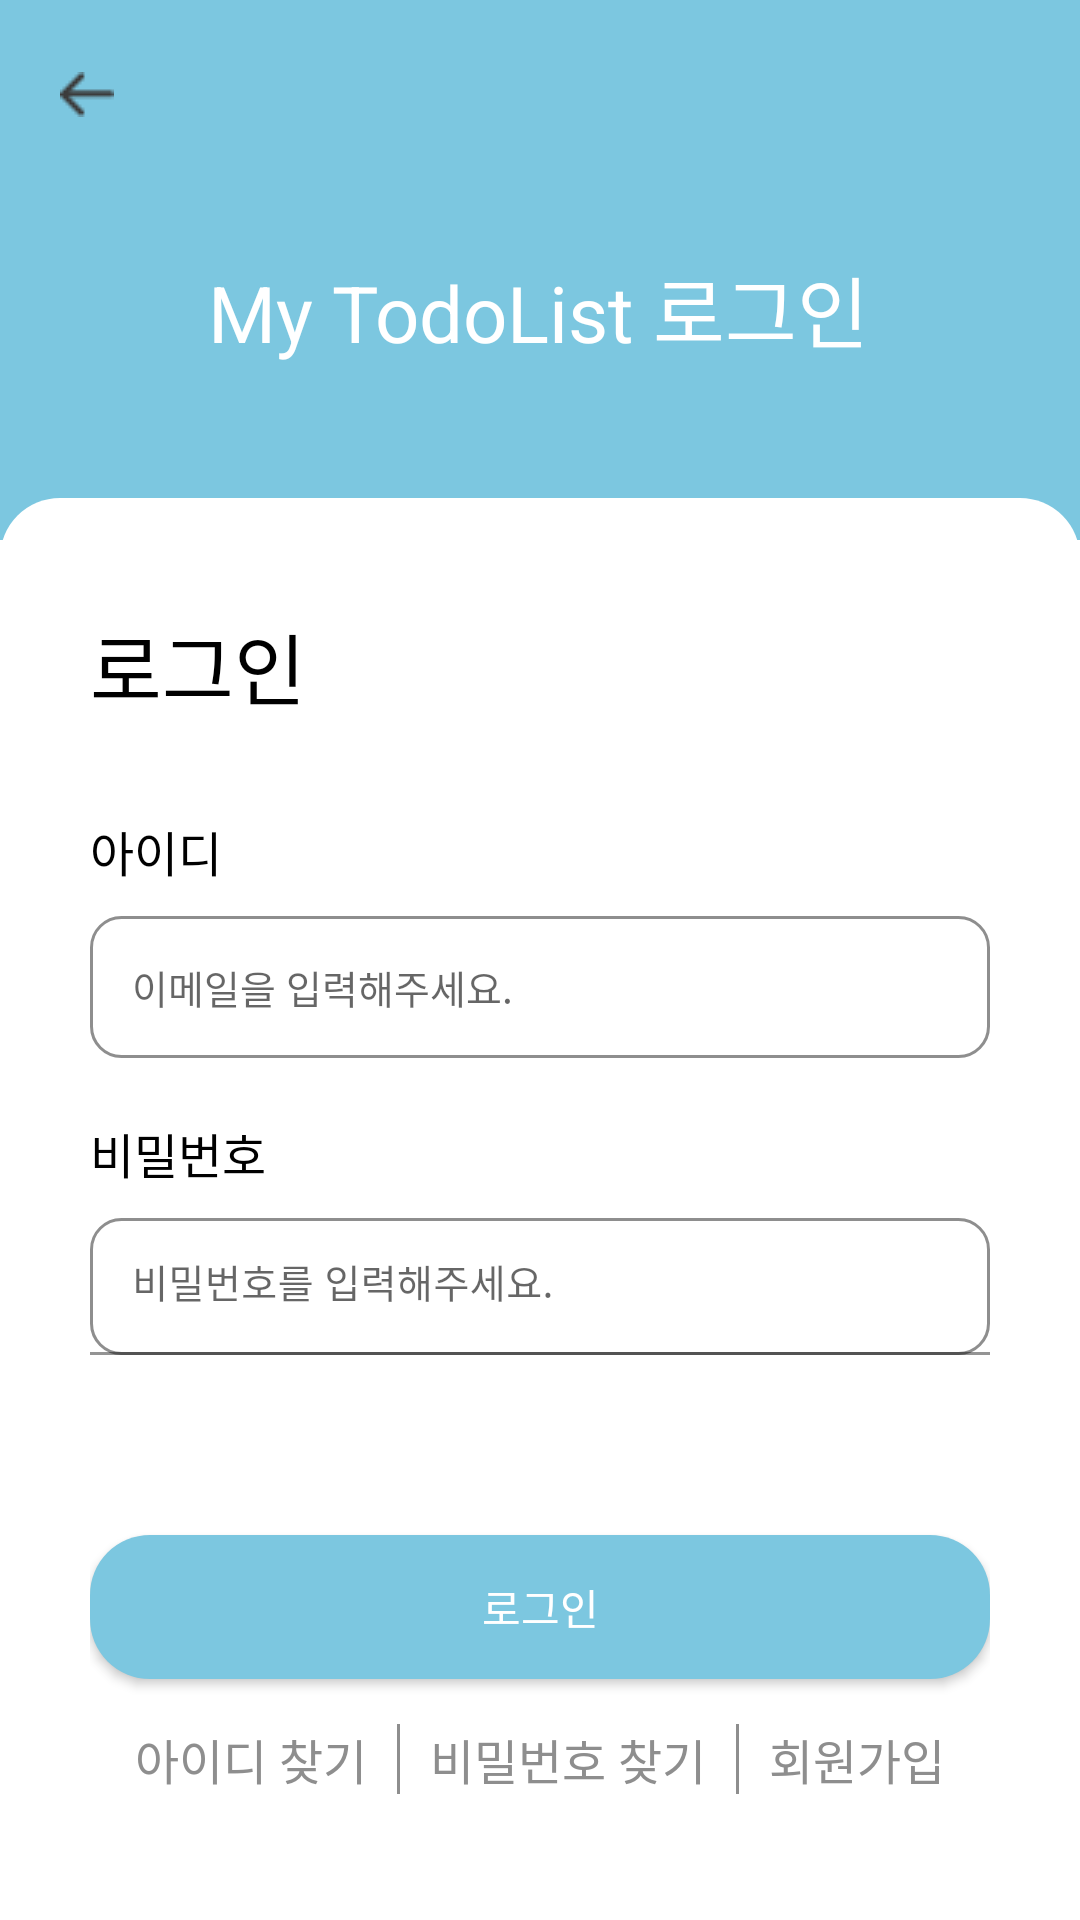

Named icons in this screenshot (1080x1920) and their centers, point (x, y):
back: point (87, 94)
